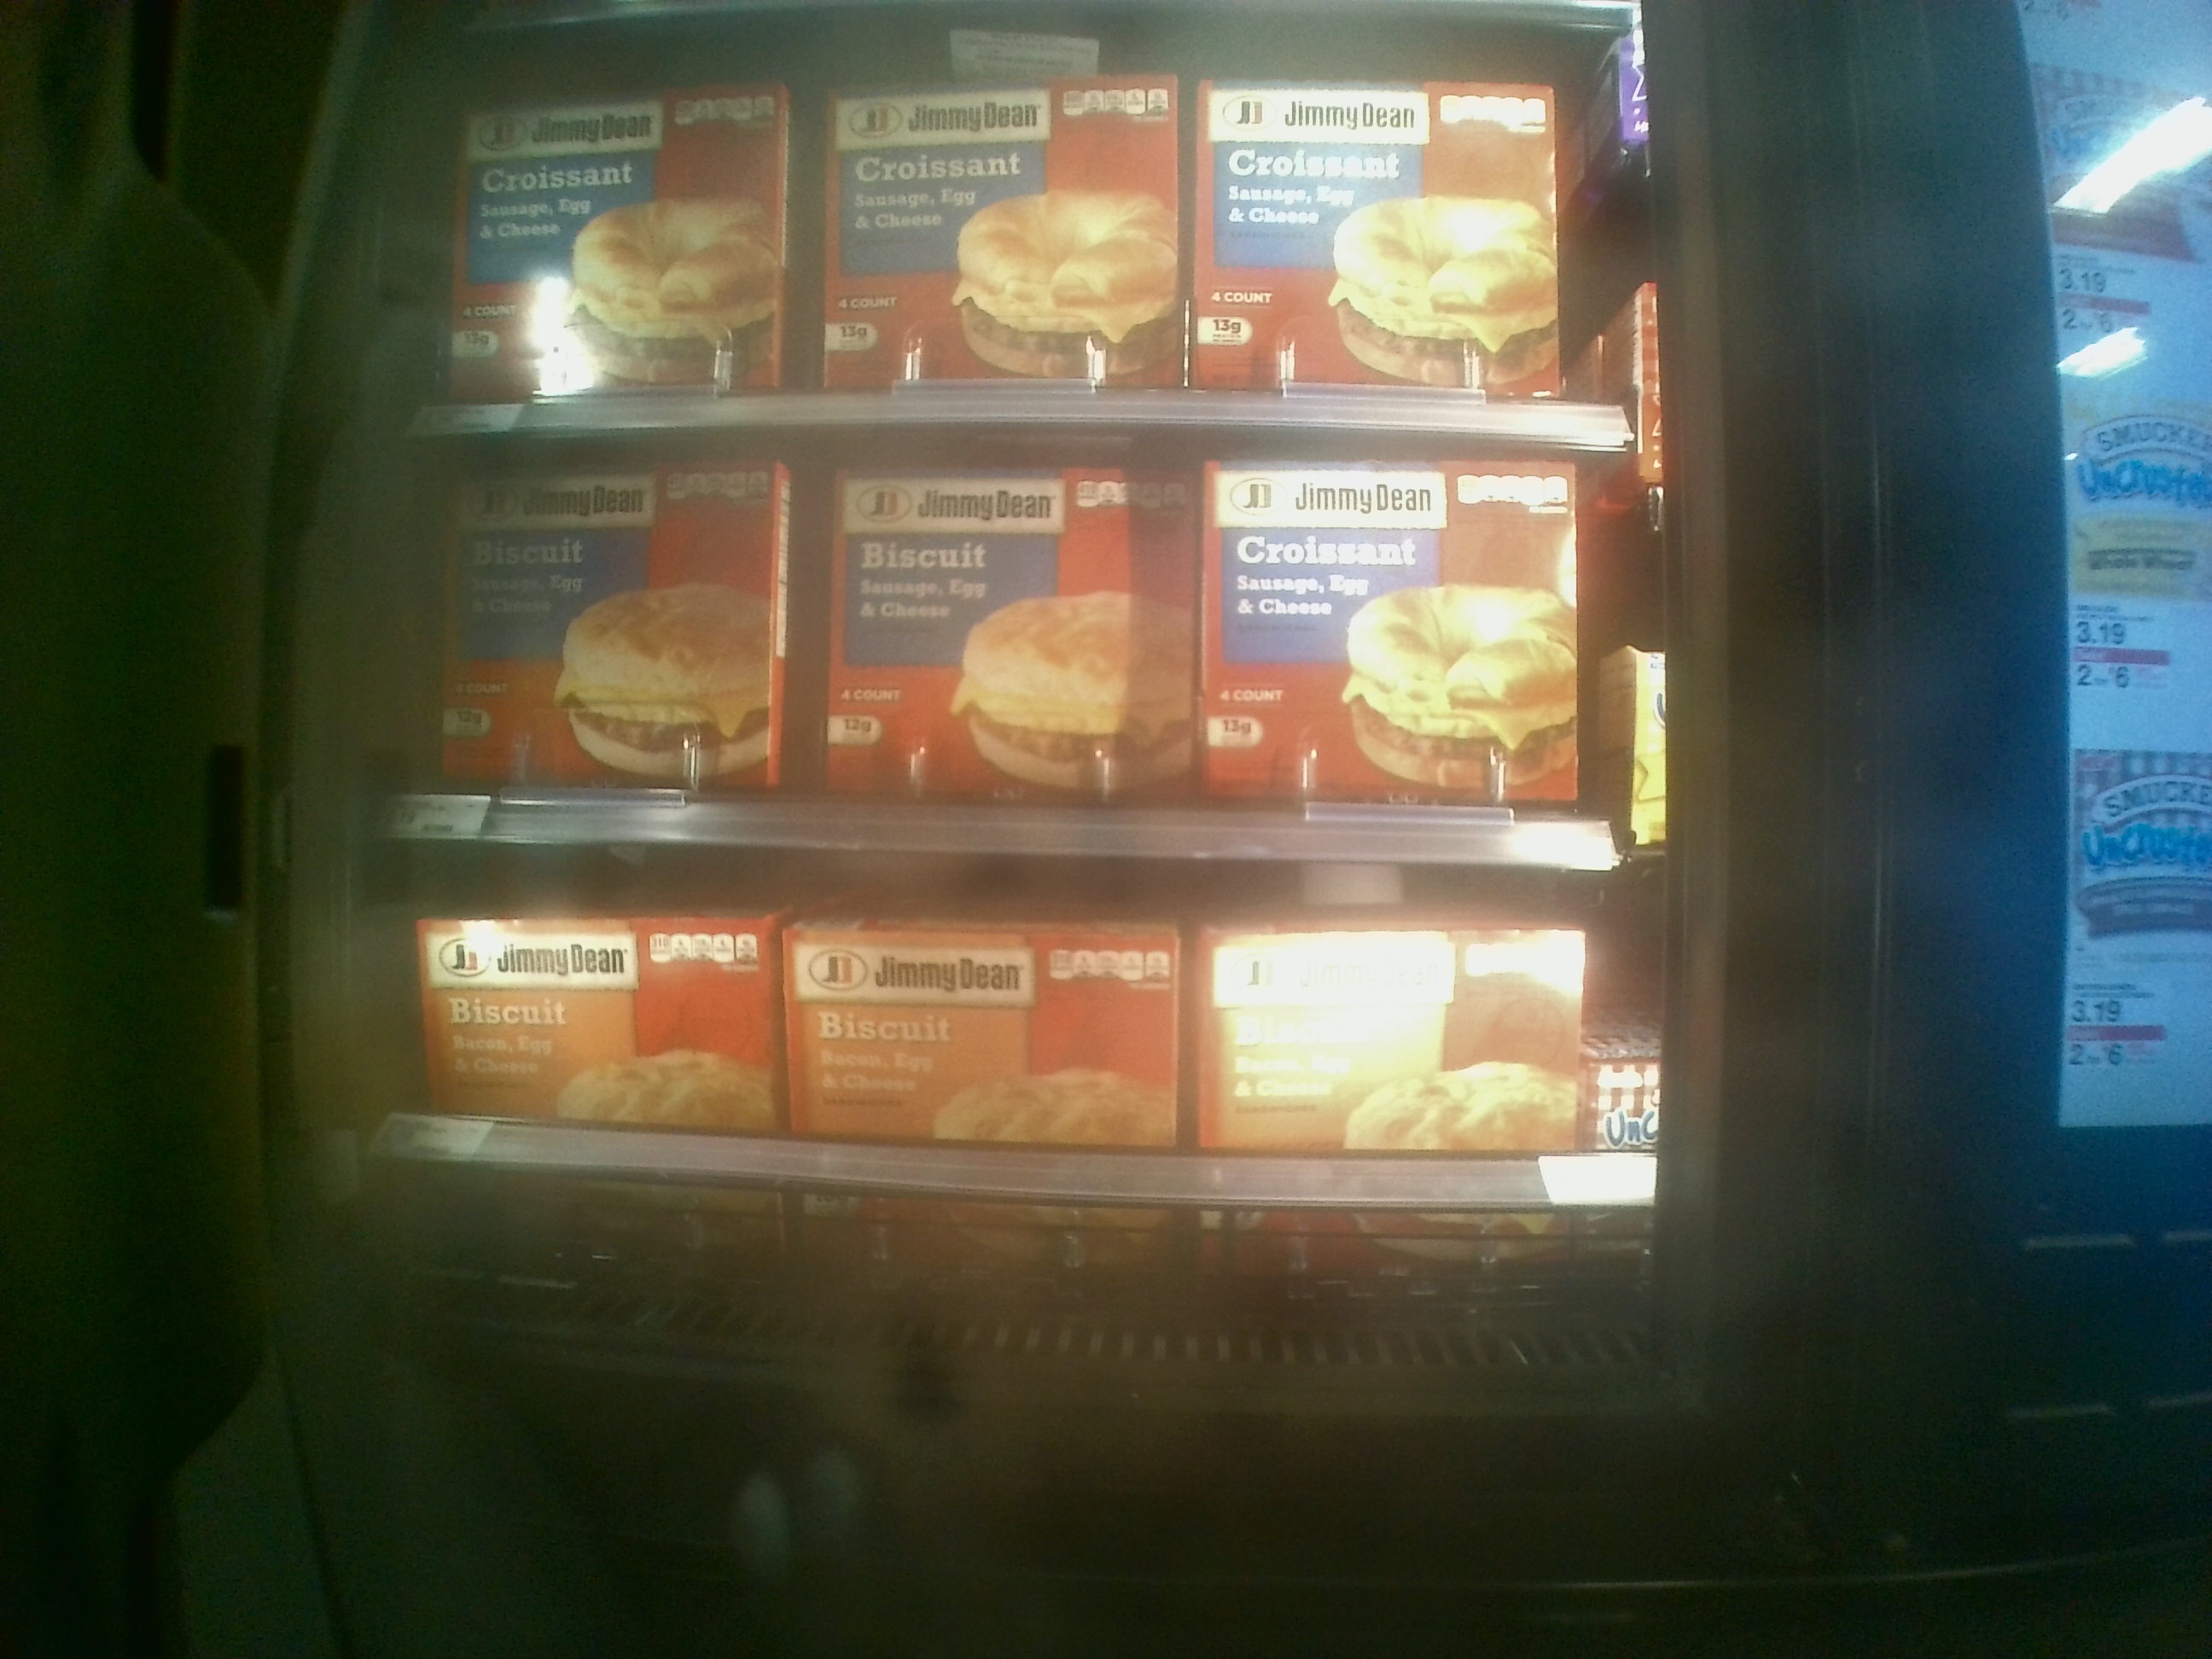frozen-food-shelf: (376, 416, 1630, 863)
